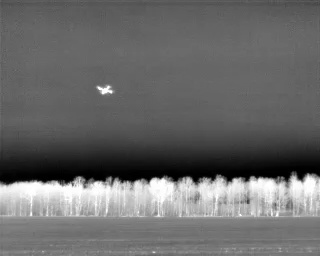DRONE: (93, 80, 118, 99)
